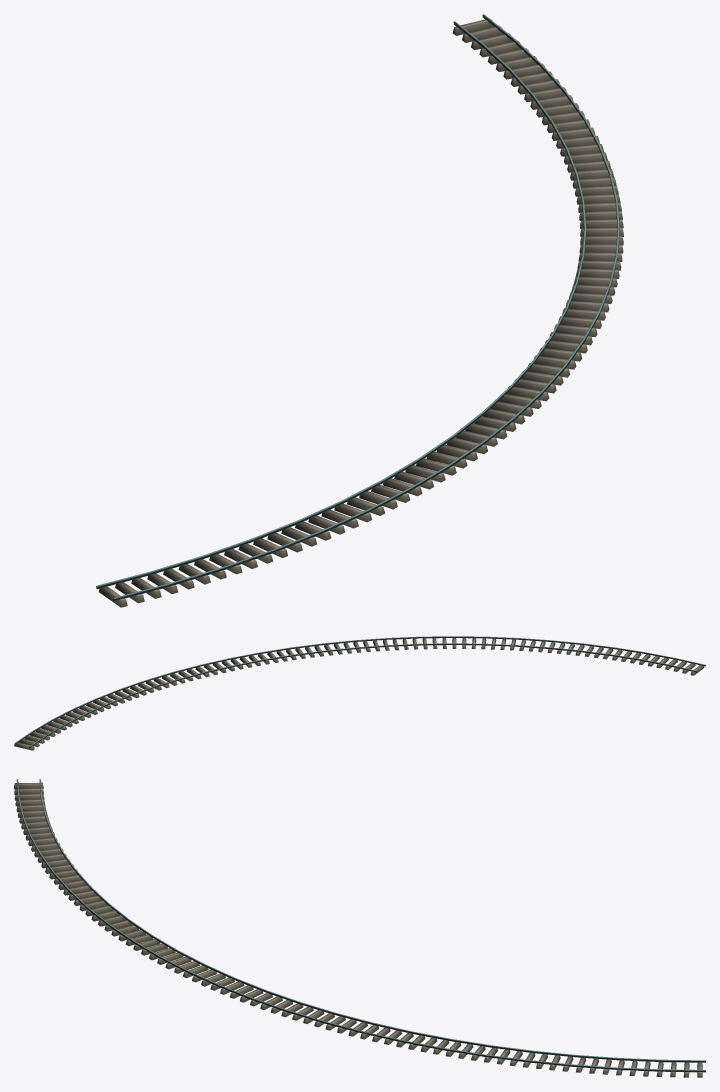
The model's file is Train_Tracks_1B.fbx.
3 views of the same model, one above another, from view 1: azimuth 30°, elevation 25°; view 2: azimuth 150°, elevation 25°; view 3: azimuth 270°, elevation 25° (orthographic). The views are drawn at different scales.
Visible parts, largest first — view 1: Train_Tracks_1B; view 2: Train_Tracks_1B; view 3: Train_Tracks_1B.
Part boxes in pixels (x1,y1,x2,y2): Train_Tracks_1B: (96,14,623,607); Train_Tracks_1B: (14,636,705,750); Train_Tracks_1B: (14,779,705,1077).
Size of the model in its own units: 65.35 by 0.625 by 65.37.
